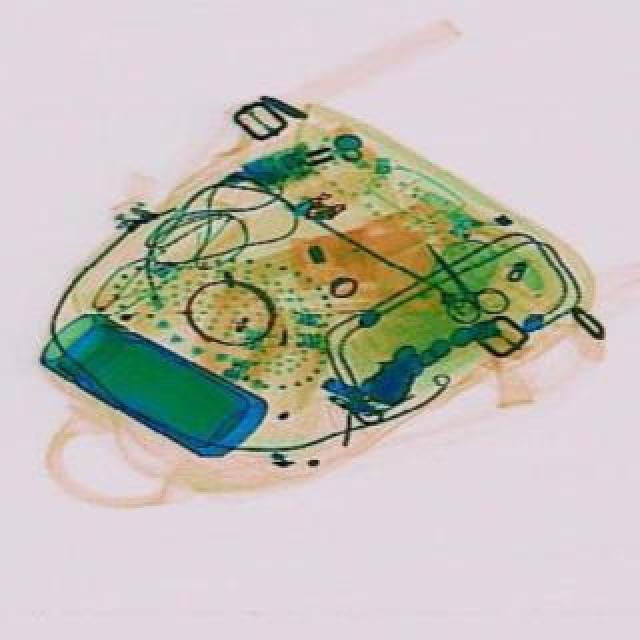pliers: (410, 230, 518, 338)
